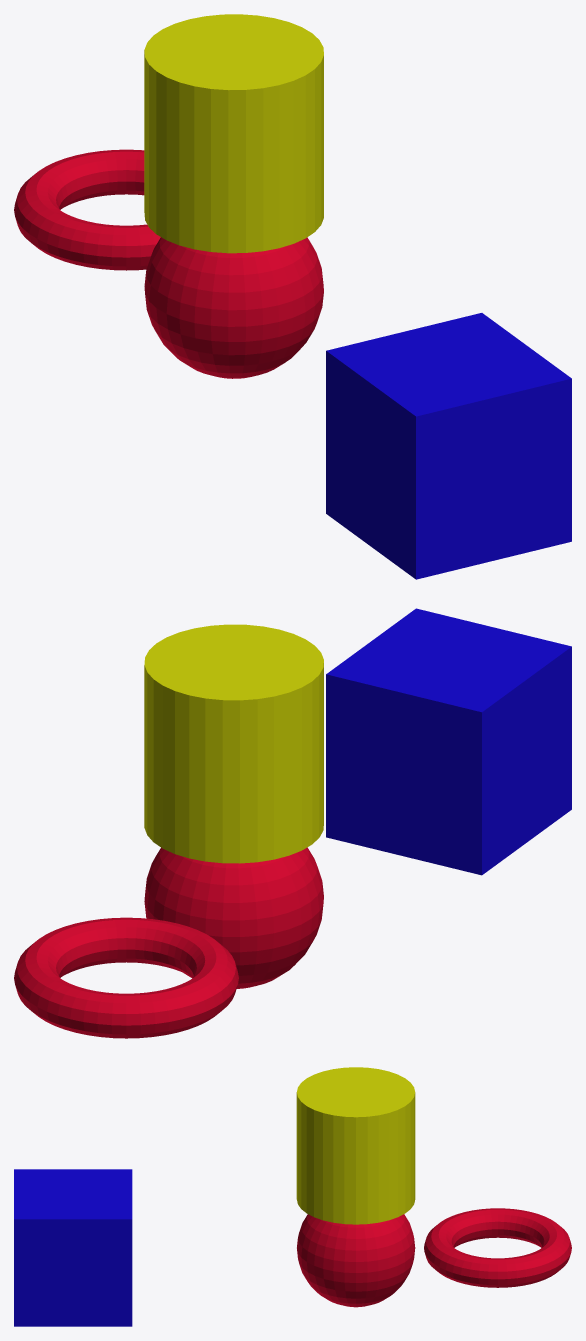
Rendered from Example.dae.
3 views of the same model, one above another, from view 1: azimuth 30°, elevation 25°; view 2: azimuth 150°, elevation 25°; view 3: azimuth 270°, elevation 25° (orthographic). The views are drawn at different scales.
Visible parts, largest first — view 1: Cube, Cylinder, Sphere, Torus; view 2: Cube, Cylinder, Torus, Sphere; view 3: Cube, Cylinder, Sphere, Torus.
Part boxes in pixels (<box>): Cube: <box>326,313,571,579</box>; Cylinder: <box>144,14,323,253</box>; Sphere: <box>144,237,323,378</box>; Torus: <box>14,149,160,270</box>; Cube: <box>326,608,571,875</box>; Cylinder: <box>144,624,323,863</box>; Torus: <box>14,917,238,1038</box>; Sphere: <box>144,847,323,988</box>; Cube: <box>14,1169,132,1326</box>; Cylinder: <box>296,1067,415,1224</box>; Sphere: <box>297,1214,415,1307</box>; Torus: <box>424,1208,571,1287</box>.
Bounding box in the file's own units: 2.5 × 9.42 × 3.9.
